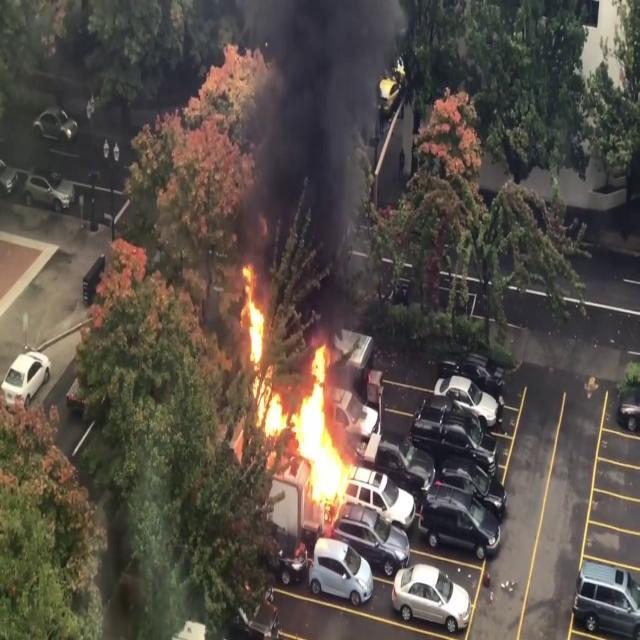Fire: (235, 266, 363, 514)
Smoke: (232, 0, 400, 292)
